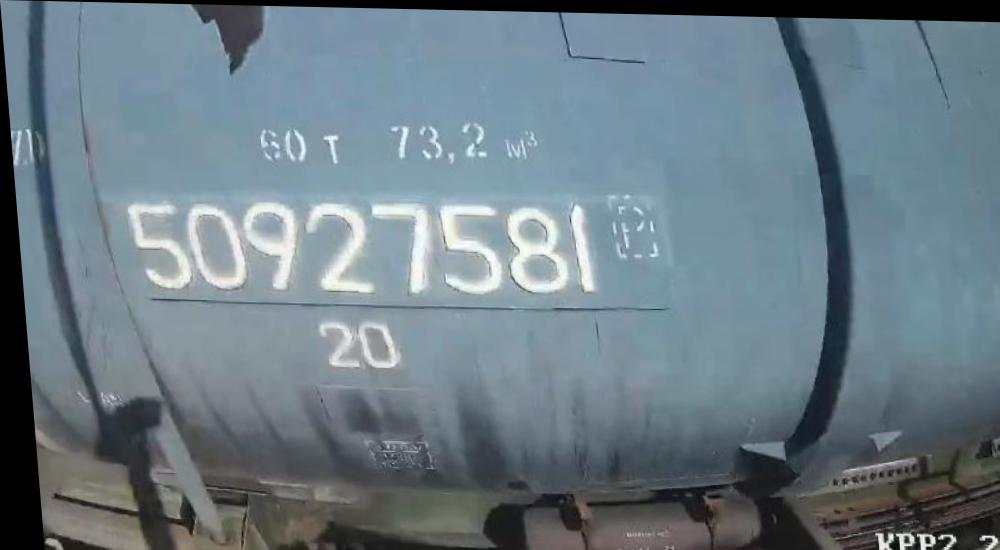Wagon-number: (117, 192, 606, 305)
